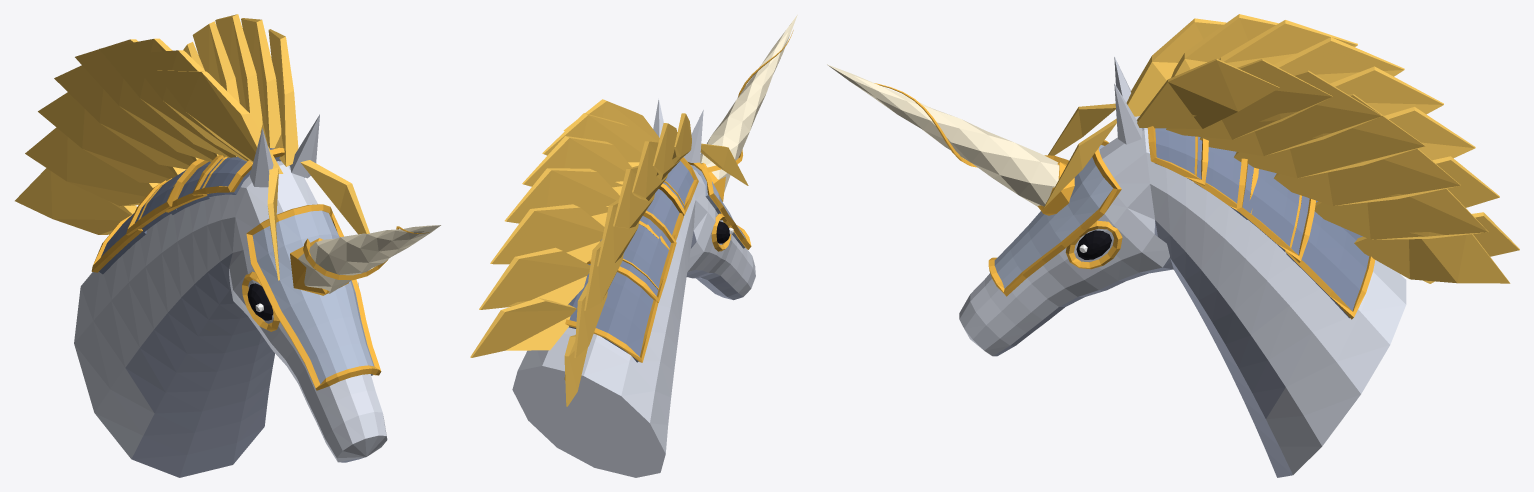
The model's file is BossSteedHead.obj.
The picture shows the model from 3 angles, left to right: view 1: azimuth 30°, elevation 25°; view 2: azimuth 150°, elevation 25°; view 3: azimuth 270°, elevation 25°; orthographic projection. The views are drawn at different scales.
Parts seen in each view (by area): view 1: BossSteedHead; view 2: BossSteedHead; view 3: BossSteedHead.
Part boxes in pixels (x1,y1,x2,y2): BossSteedHead: [15, 14, 440, 477]; BossSteedHead: [470, 14, 797, 477]; BossSteedHead: [827, 14, 1519, 477].
Bounding box in the file's own units: 1.84 × 4.44 × 6.51.
